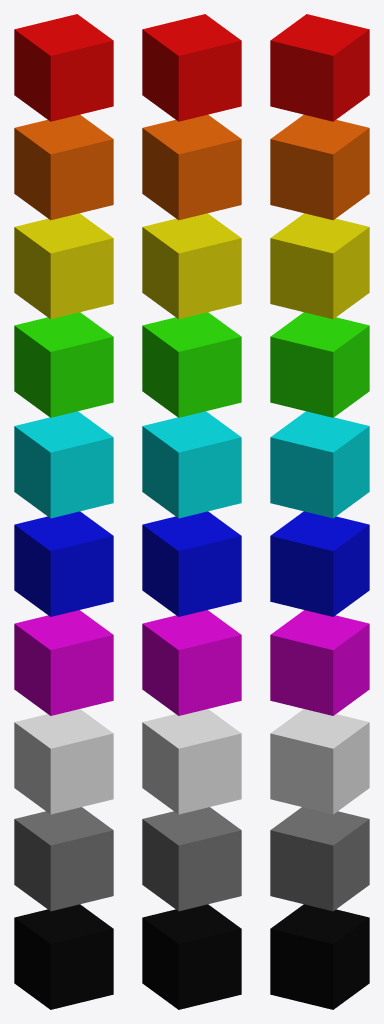
File: color_camera.glb
3 views of the same model, side by side, from view 1: azimuth 30°, elevation 25°; view 2: azimuth 210°, elevation 25°; view 3: azimuth 330°, elevation 25° (orthographic).
Visible parts, largest first — view 1: red, blue, yellow, violet, green, orange, white, indigo, black, grey; view 2: red, blue, yellow, violet, green, orange, white, indigo, black, grey; view 3: red, blue, yellow, violet, green, orange, white, indigo, black, grey.
Part boxes in pixels (x1=…): red: x1=14, y1=14, x2=113, y2=121; blue: x1=14, y1=411, x2=113, y2=518; yellow: x1=14, y1=213, x2=113, y2=319; violet: x1=14, y1=610, x2=113, y2=715; green: x1=14, y1=312, x2=113, y2=417; orange: x1=14, y1=114, x2=113, y2=220; white: x1=14, y1=709, x2=113, y2=814; indigo: x1=14, y1=511, x2=113, y2=616; black: x1=14, y1=904, x2=113, y2=1009; grey: x1=14, y1=807, x2=113, y2=911; red: x1=142, y1=14, x2=241, y2=121; blue: x1=142, y1=411, x2=241, y2=518; yellow: x1=142, y1=213, x2=241, y2=319; violet: x1=142, y1=610, x2=241, y2=715; green: x1=142, y1=312, x2=241, y2=417; orange: x1=142, y1=114, x2=241, y2=220; white: x1=142, y1=709, x2=241, y2=814; indigo: x1=142, y1=511, x2=241, y2=616; black: x1=142, y1=904, x2=241, y2=1009; grey: x1=142, y1=807, x2=241, y2=911; red: x1=270, y1=14, x2=369, y2=121; blue: x1=270, y1=411, x2=369, y2=518; yellow: x1=270, y1=213, x2=369, y2=319; violet: x1=270, y1=610, x2=369, y2=715; green: x1=270, y1=312, x2=369, y2=417; orange: x1=270, y1=114, x2=369, y2=220; white: x1=270, y1=709, x2=369, y2=814; indigo: x1=270, y1=511, x2=369, y2=616; black: x1=270, y1=904, x2=369, y2=1009; grey: x1=270, y1=807, x2=369, y2=911.
Bounding box in the file's own units: 2 × 28.97 × 2.
